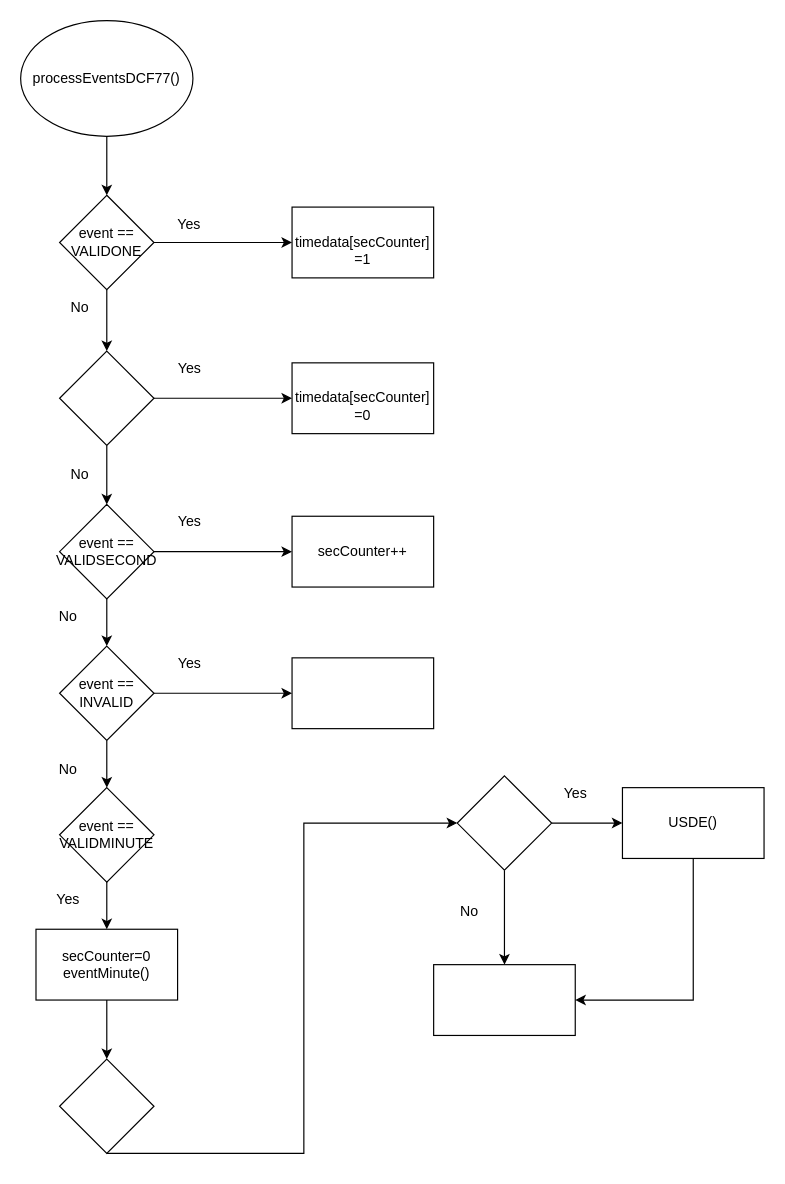
Some shapes in this 785 by 1184 pixel diagram are drawn without their labels. Each missing label, with the centre of its shape:
event == VALIDZERO: point (106, 397)
if(dataOK): point (106, 1105)
if(us_on): point (504, 822)
setClock() displayDateDcf77(): point (503, 999)
timedata[secCounter] =-1: point (362, 693)
